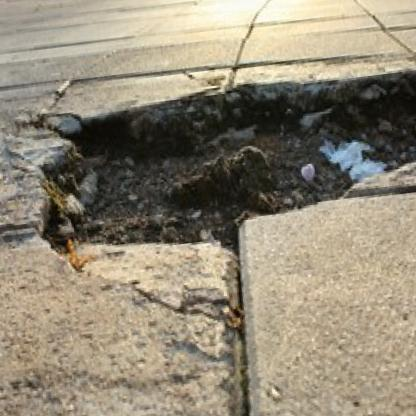pothole: (25, 61, 416, 263)
